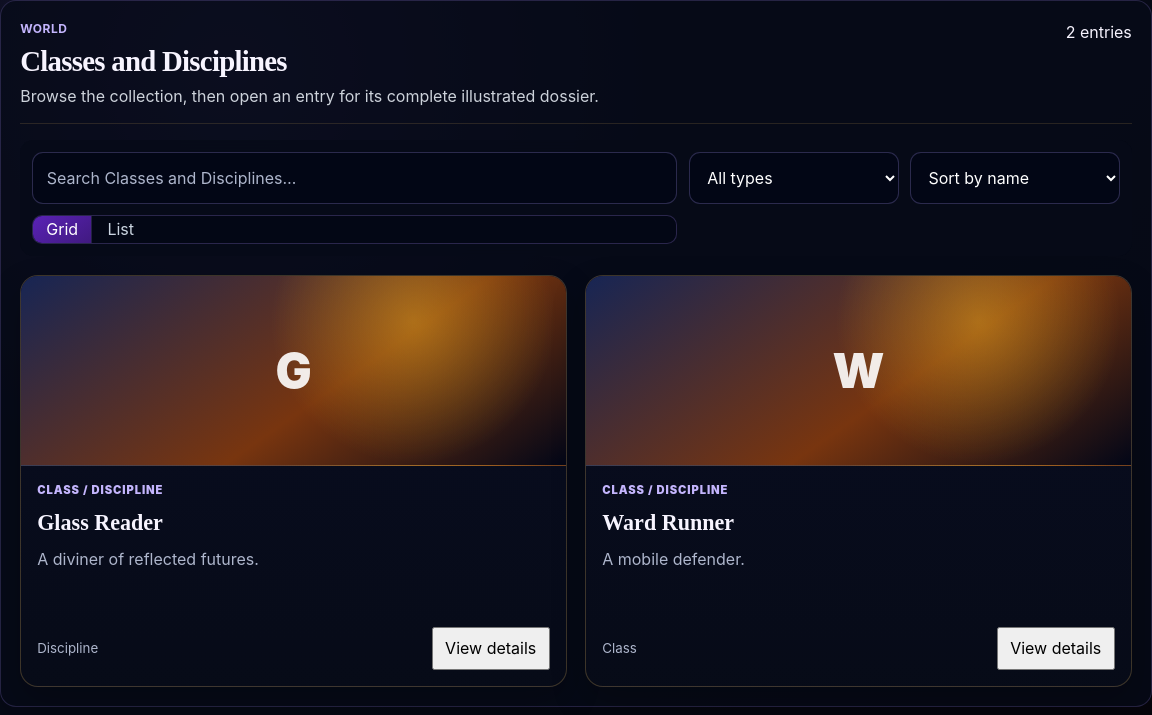
Test case: RpgWorldAuthoringPage collections › opens a compact class card into its complete routed dossier
Expected: the text "Cross active wards" is not shown
Expected: the element "Ward Runner" is shown, [585,275,1132,687]
Step 1. Click the button "View details" below "A mobile defender." → (1056, 649), box [997,627,1115,670]
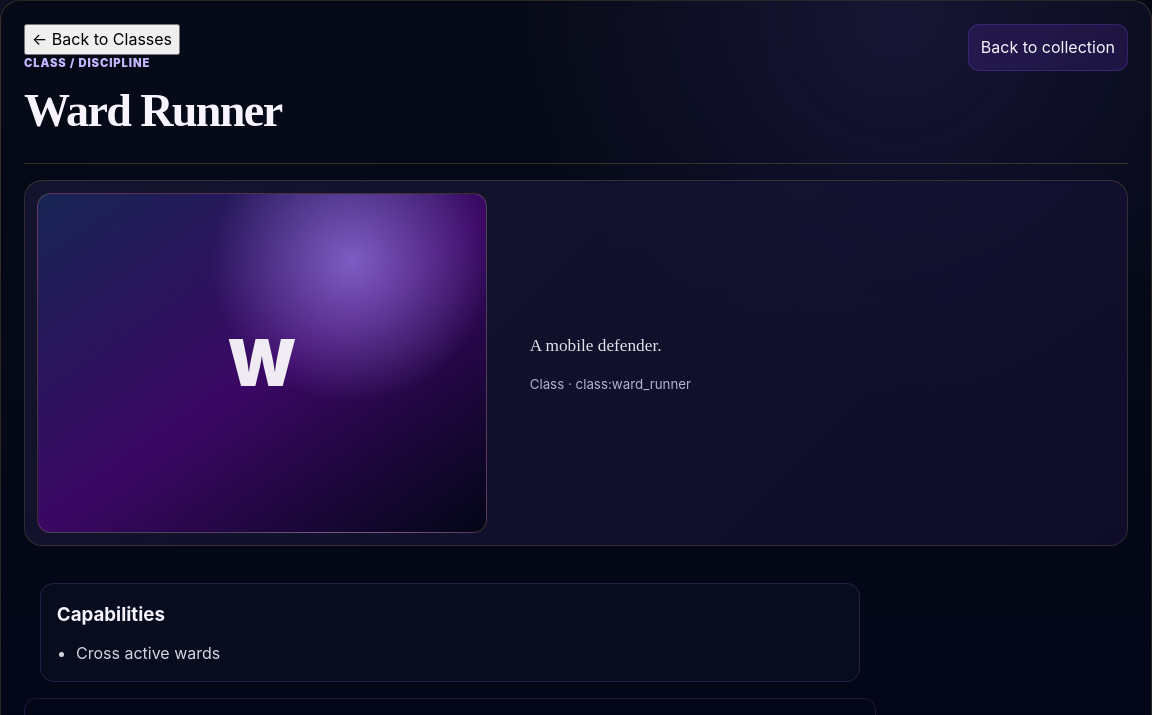
Now the list item "Cross active wards" is shown, box [76,643,220,663]
